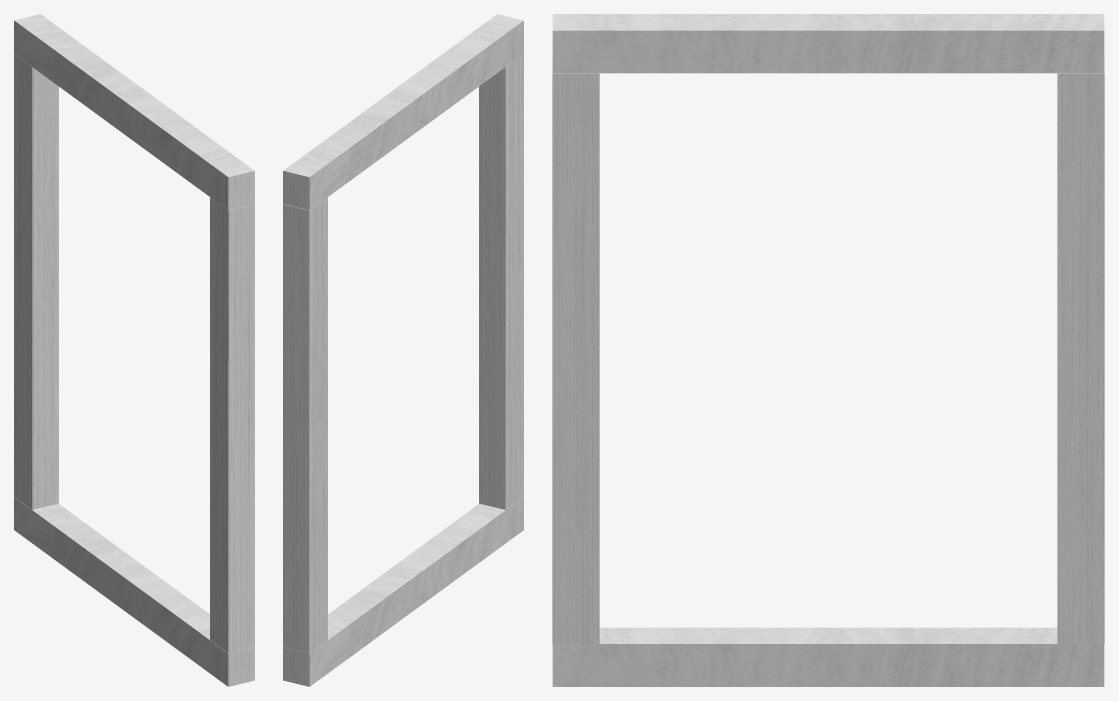
The model's file is MarcoVentanaSuperior.obj.
3 views of the same model, side by side, from view 1: azimuth 30°, elevation 25°; view 2: azimuth 150°, elevation 25°; view 3: azimuth 270°, elevation 25° (orthographic). The views are drawn at different scales.
Parts seen in each view (by area): view 1: MarcoVentana; view 2: MarcoVentana; view 3: MarcoVentana.
Boxes of the visible parts, <box> form: MarcoVentana: <box>14,14,254,686</box>; MarcoVentana: <box>283,14,523,686</box>; MarcoVentana: <box>552,14,1104,686</box>.
Bounding box in the file's own units: 0.25 × 4.6 × 3.51.
Materials: 1 (1 with a texture image).
